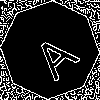A: (25, 25, 81, 82)
